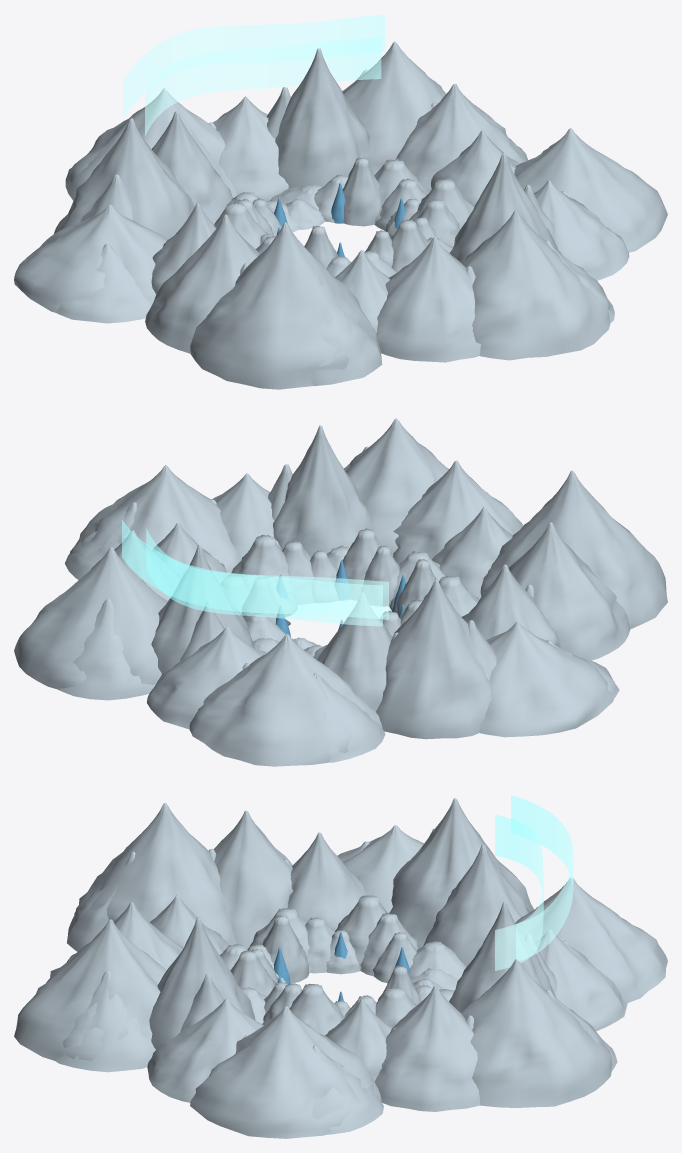
The model's file is BACKDROP.glb.
The picture shows the model from 3 angles, top to bottom: view 1: azimuth 30°, elevation 25°; view 2: azimuth 150°, elevation 25°; view 3: azimuth 270°, elevation 25°; orthographic projection.
Parts seen in each view (by area): view 1: BACKDROP; view 2: BACKDROP; view 3: BACKDROP.
Part boxes in pixels (bbox=[...]): BACKDROP: bbox=[14, 14, 667, 389]; BACKDROP: bbox=[14, 418, 667, 766]; BACKDROP: bbox=[14, 795, 667, 1138].
Bounding box in the file's own units: 377 × 92.5 × 375.
